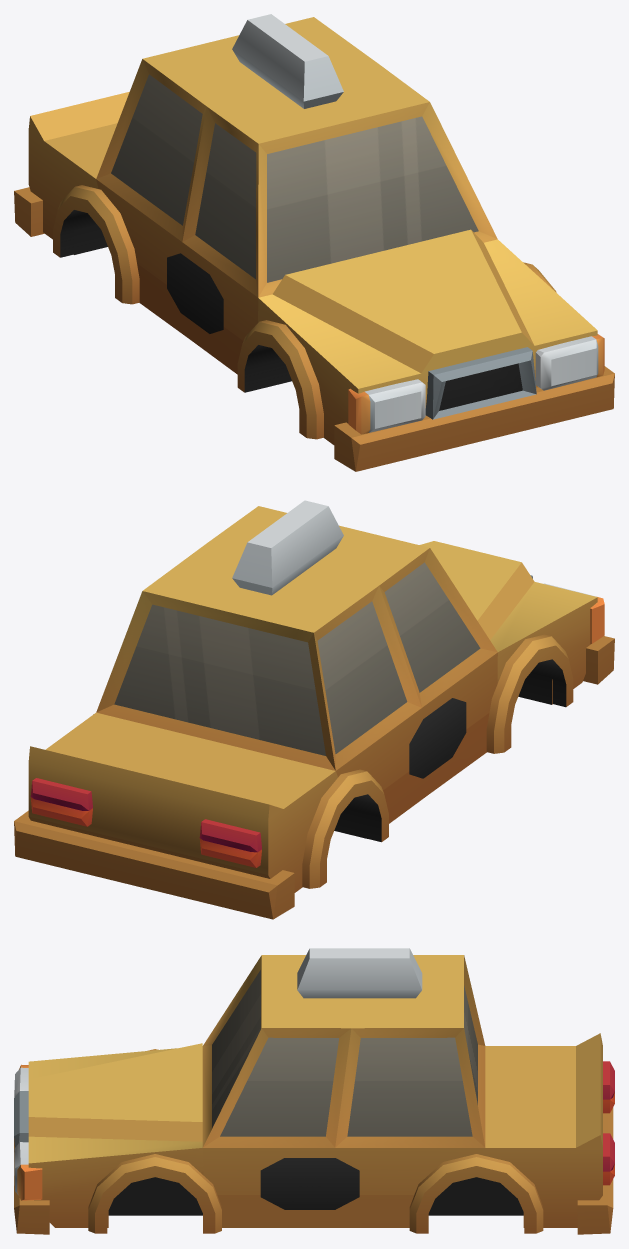
File: car_taxi.obj
3 renders of one model, top to bottom at view 1: azimuth 30°, elevation 25°; view 2: azimuth 150°, elevation 25°; view 3: azimuth 270°, elevation 25°, orthographic. The views are drawn at different scales.
Bounding box in the file's own units: 0.419 × 0.4457 × 0.9381.
Materials: 1 (1 with a texture image).
